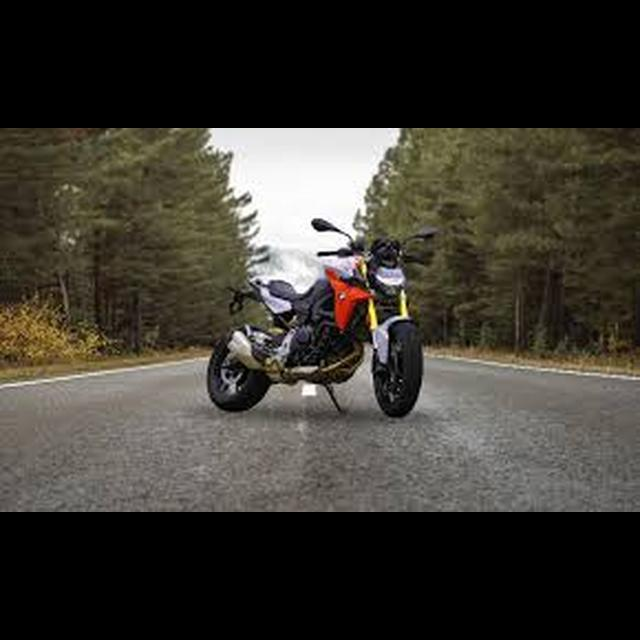motorcycle: (207, 213, 442, 424)
